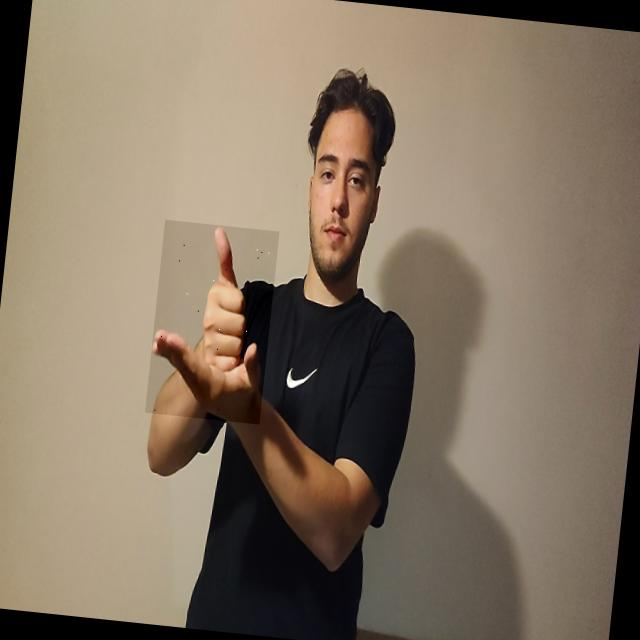help: (144, 219, 279, 424)
